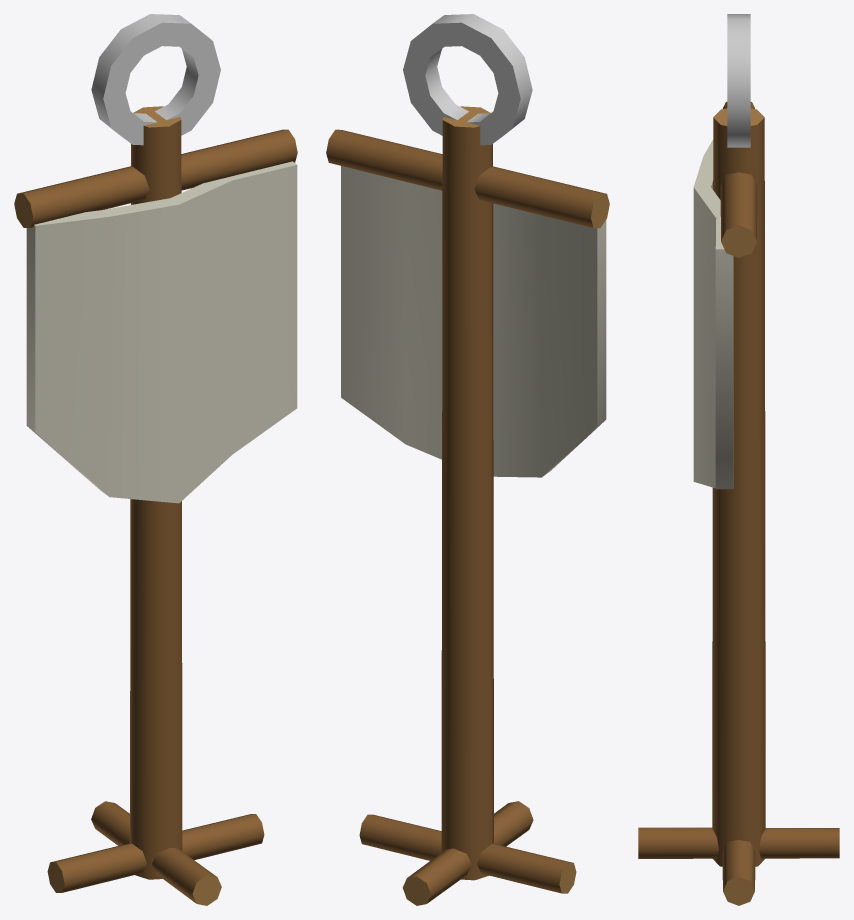
File: sacrificial_flag.obj
3 views of the same model, side by side, from view 1: azimuth 30°, elevation 25°; view 2: azimuth 150°, elevation 25°; view 3: azimuth 270°, elevation 25° (orthographic).
Parts seen in each view (by area): view 1: source_component_005, source_component_000, source_component_004, source_component_003, source_component_001, source_component_002; view 2: source_component_005, source_component_000, source_component_004, source_component_003, source_component_001, source_component_002; view 3: source_component_000, source_component_005, source_component_002, source_component_004, source_component_003, source_component_001.
Boxes of the visible parts, x1,y1,x2,y2 form: source_component_005: [26, 161, 297, 503]; source_component_000: [130, 106, 182, 879]; source_component_004: [91, 14, 220, 145]; source_component_003: [14, 129, 297, 227]; source_component_001: [47, 814, 264, 892]; source_component_002: [91, 801, 221, 905]; source_component_005: [341, 166, 606, 477]; source_component_000: [441, 106, 493, 880]; source_component_004: [403, 14, 532, 145]; source_component_003: [326, 129, 609, 228]; source_component_001: [359, 814, 576, 893]; source_component_002: [402, 801, 533, 905]; source_component_000: [712, 108, 765, 866]; source_component_005: [693, 139, 733, 489]; source_component_002: [638, 827, 839, 858]; source_component_004: [727, 14, 750, 147]; source_component_003: [720, 102, 757, 257]; source_component_001: [722, 840, 755, 905].
Bounding box in the file's own units: 0.45 × 1.38 × 0.3.
